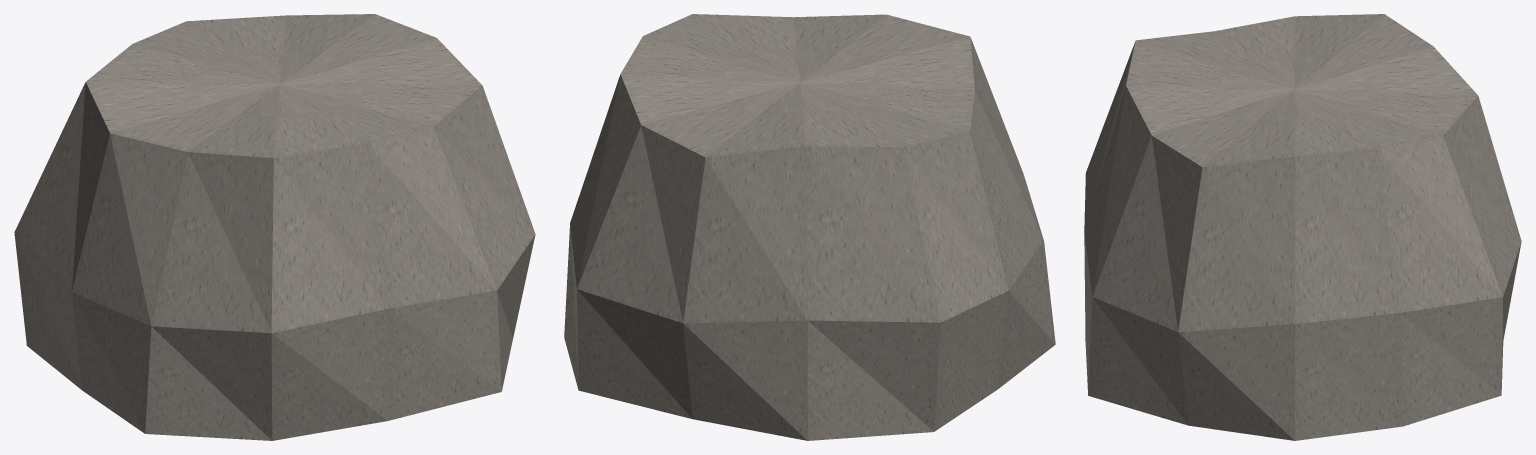
Rendered from showcase_boulder.glb.
3 renders of one model, left to right at view 1: azimuth 30°, elevation 25°; view 2: azimuth 150°, elevation 25°; view 3: azimuth 270°, elevation 25°, orthographic. The views are drawn at different scales.
Visible parts, largest first — view 1: outdoor_showcase_boulder; view 2: outdoor_showcase_boulder; view 3: outdoor_showcase_boulder.
Part boxes in pixels (<box>): outdoor_showcase_boulder: <box>14,14,535,440</box>; outdoor_showcase_boulder: <box>564,14,1055,440</box>; outdoor_showcase_boulder: <box>1084,14,1521,440</box>.
Size of the model in its own units: 1.4 by 0.85 by 1.3.
Materials: 1 (1 with a texture image).
